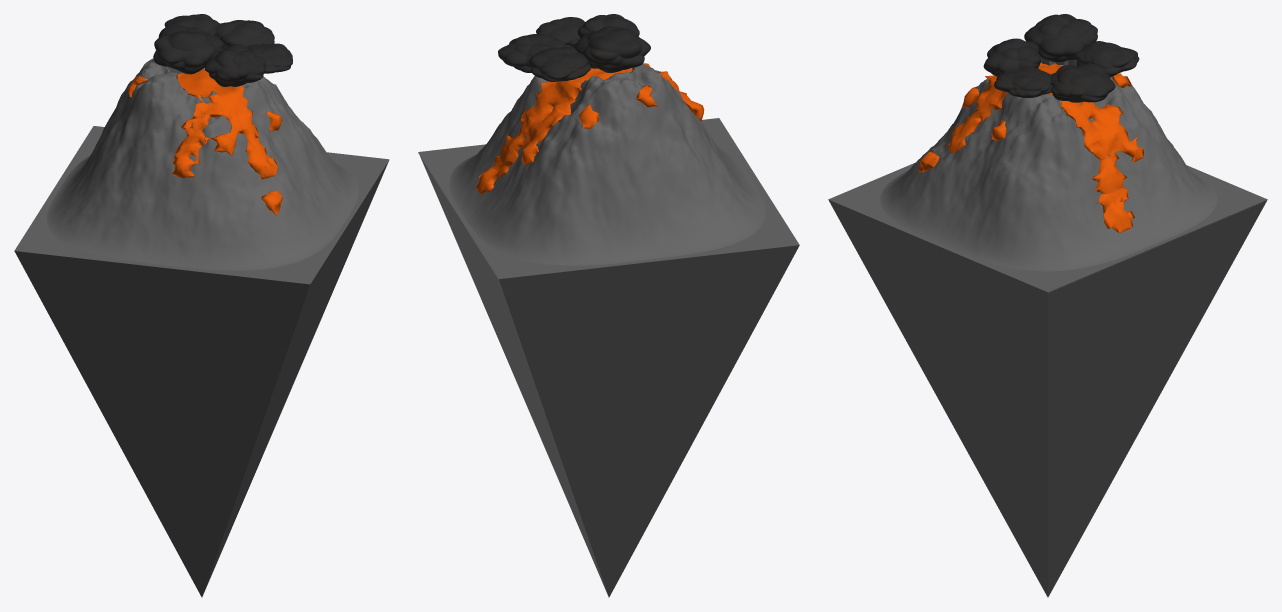
Rendered from world_v2.fbx.
3 views of the same model, side by side, from view 1: azimuth 30°, elevation 25°; view 2: azimuth 150°, elevation 25°; view 3: azimuth 270°, elevation 25° (orthographic).
Visible parts, largest first — view 1: Landscape, Cube.001, Cube.002, Cube.005, Cube.004, Cube.003; view 2: Landscape, Cube.001, Cube.003, Cube.005, Cube.004, Cube.002; view 3: Landscape, Cube.001, Cube.005, Cube.002, Cube.003, Cube.004.
Boxes of the visible parts, <box> form: Landscape: <box>14,58,389,597</box>; Cube.001: <box>153,24,223,74</box>; Cube.002: <box>204,44,265,86</box>; Cube.005: <box>216,20,274,49</box>; Cube.004: <box>246,43,292,73</box>; Cube.003: <box>164,14,219,36</box>; Landscape: <box>418,63,799,597</box>; Cube.001: <box>575,26,650,72</box>; Cube.003: <box>529,47,591,81</box>; Cube.005: <box>498,34,565,72</box>; Cube.004: <box>536,17,585,47</box>; Cube.002: <box>577,14,639,38</box>; Landscape: <box>828,57,1267,597</box>; Cube.001: <box>1024,14,1097,62</box>; Cube.005: <box>1050,63,1115,102</box>; Cube.002: <box>983,38,1041,76</box>; Cube.003: <box>1075,41,1139,76</box>; Cube.004: <box>994,66,1052,97</box>.
Size of the model in its own units: 0.8 by 1.15 by 0.8.
